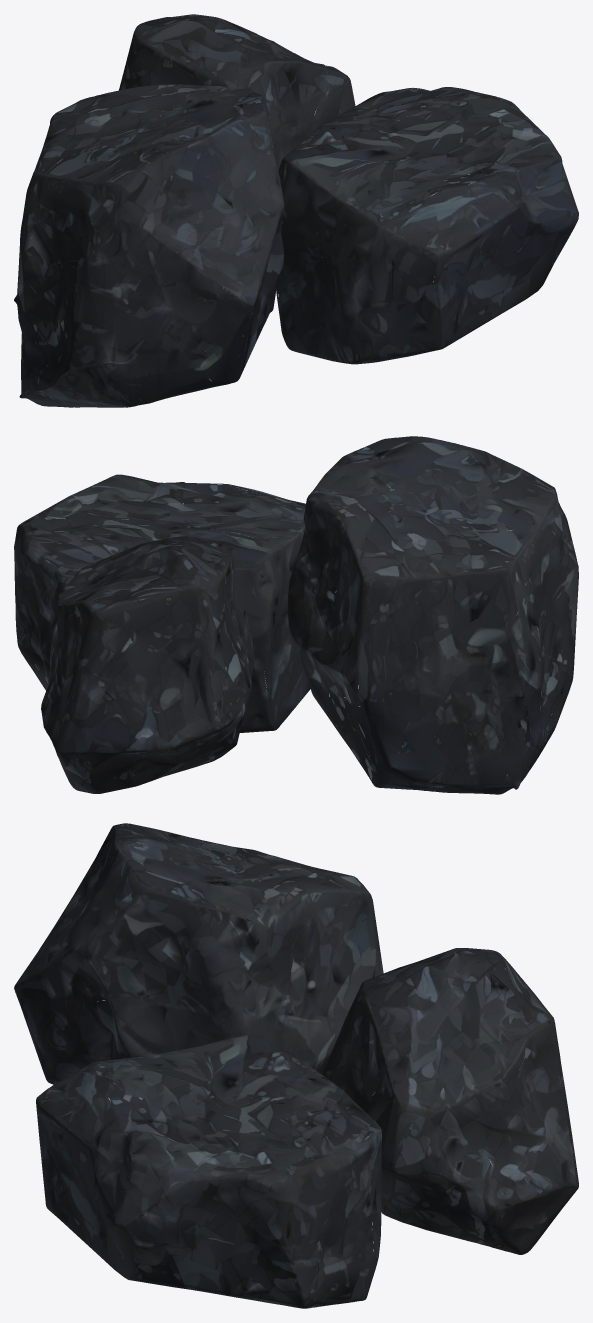
File: rocks.glb
3 renders of one model, top to bottom at view 1: azimuth 30°, elevation 25°; view 2: azimuth 150°, elevation 25°; view 3: azimuth 270°, elevation 25°, orthographic. The views are drawn at different scales.
Parts seen in each view (by area): view 1: tripo_node_f0447f66-a75f-4328-9fe3-fa8dce4cc221; view 2: tripo_node_f0447f66-a75f-4328-9fe3-fa8dce4cc221; view 3: tripo_node_f0447f66-a75f-4328-9fe3-fa8dce4cc221.
Part boxes in pixels (x1,y1,x2,y2): tripo_node_f0447f66-a75f-4328-9fe3-fa8dce4cc221: [14, 14, 578, 407]; tripo_node_f0447f66-a75f-4328-9fe3-fa8dce4cc221: [14, 436, 578, 794]; tripo_node_f0447f66-a75f-4328-9fe3-fa8dce4cc221: [14, 823, 578, 1308].
Size of the model in its own units: 4.04 by 2.2 by 3.53.
Materials: 1 (1 with a texture image).
